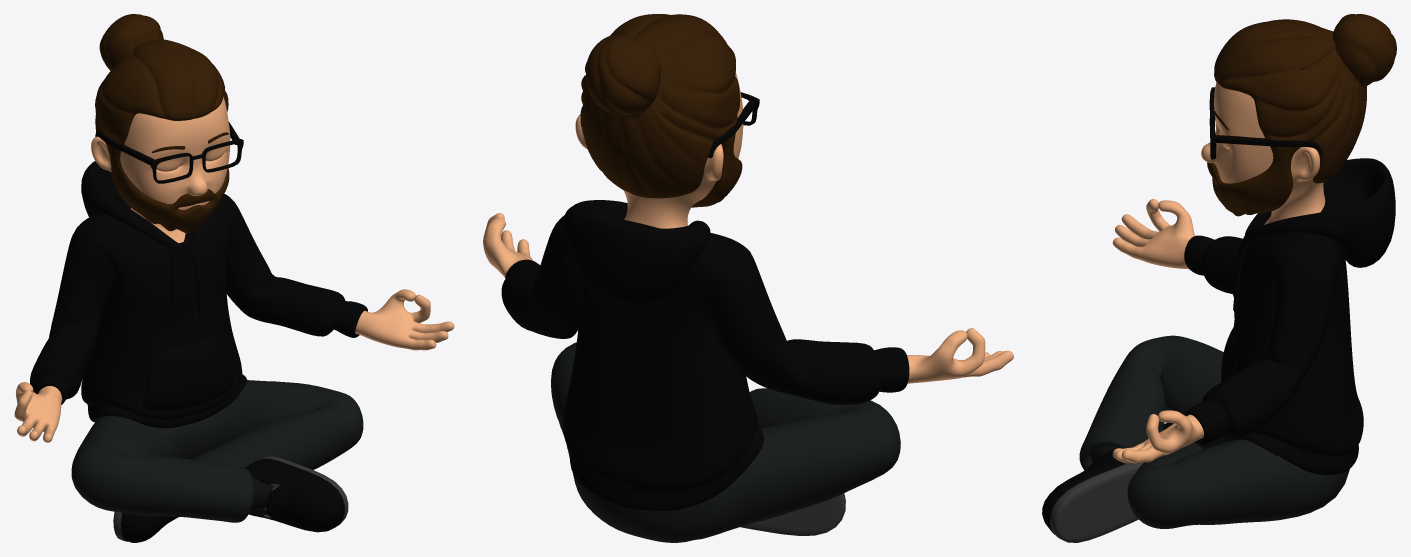
The model's file is avatar-lotus.glb.
3 renders of one model, left to right at view 1: azimuth 30°, elevation 25°; view 2: azimuth 150°, elevation 25°; view 3: azimuth 270°, elevation 25°, orthographic. The views are drawn at different scales.
Parts seen in each view (by area): view 1: __exp_Felpa, __exp_Pantaloni, __exp_Capelli, __exp_Testa, __exp_Scarpe, __exp_Mani, __exp_Occhiali; view 2: __exp_Felpa, __exp_Capelli, __exp_Pantaloni, __exp_Mani, __exp_Testa, __exp_Scarpe, __exp_Occhiali; view 3: __exp_Felpa, __exp_Pantaloni, __exp_Capelli, __exp_Testa, __exp_Mani, __exp_Scarpe, __exp_Occhiali.
Part boxes in pixels (x1=…): __exp_Felpa: x1=30, y1=161, x2=367, y2=428; __exp_Pantaloni: x1=71, y1=380, x2=363, y2=522; __exp_Capelli: x1=95, y1=14, x2=229, y2=233; __exp_Testa: x1=91, y1=97, x2=230, y2=243; __exp_Scarpe: x1=113, y1=456, x2=348, y2=542; __exp_Mani: x1=14, y1=289, x2=454, y2=442; __exp_Occhiali: x1=95, y1=121, x2=243, y2=183; __exp_Felpa: x1=501, y1=200, x2=909, y2=510; __exp_Capelli: x1=580, y1=14, x2=742, y2=207; __exp_Pantaloni: x1=551, y1=342, x2=900, y2=542; __exp_Mani: x1=483, y1=213, x2=1013, y2=383; __exp_Testa: x1=575, y1=72, x2=743, y2=228; __exp_Scarpe: x1=740, y1=493, x2=845, y2=535; __exp_Occhiali: x1=580, y1=92, x2=759, y2=158; __exp_Felpa: x1=1184, y1=158, x2=1395, y2=474; __exp_Pantaloni: x1=1079, y1=335, x2=1349, y2=528; __exp_Capelli: x1=1207, y1=14, x2=1396, y2=216; __exp_Testa: x1=1201, y1=82, x2=1325, y2=224; __exp_Mani: x1=1112, y1=198, x2=1203, y2=463; __exp_Scarpe: x1=1042, y1=422, x2=1226, y2=542; __exp_Occhiali: x1=1209, y1=87, x2=1321, y2=159.
Bounding box in the file's own units: 1.23 × 1.2 × 0.7663.
